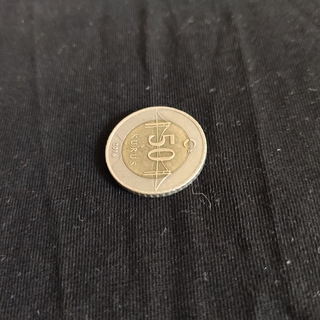50KURUS: (104, 104, 208, 198)
